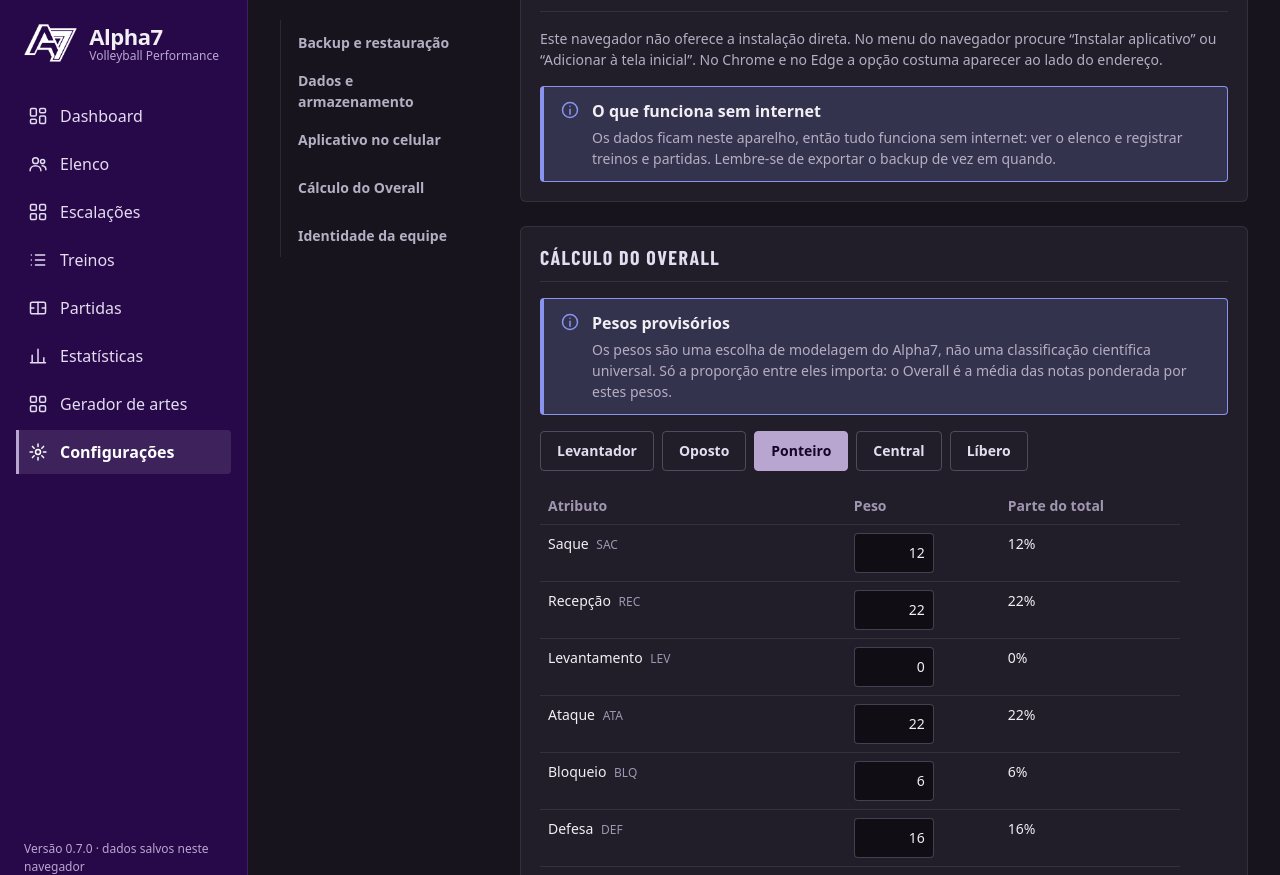
Scenario: Pesos do Overall › trocar de posição mostra os pesos daquela posição
The image size is (1280, 875).
(page scrolled)
Click the button "Central".
click(899, 451)  # box [856,431,942,471]
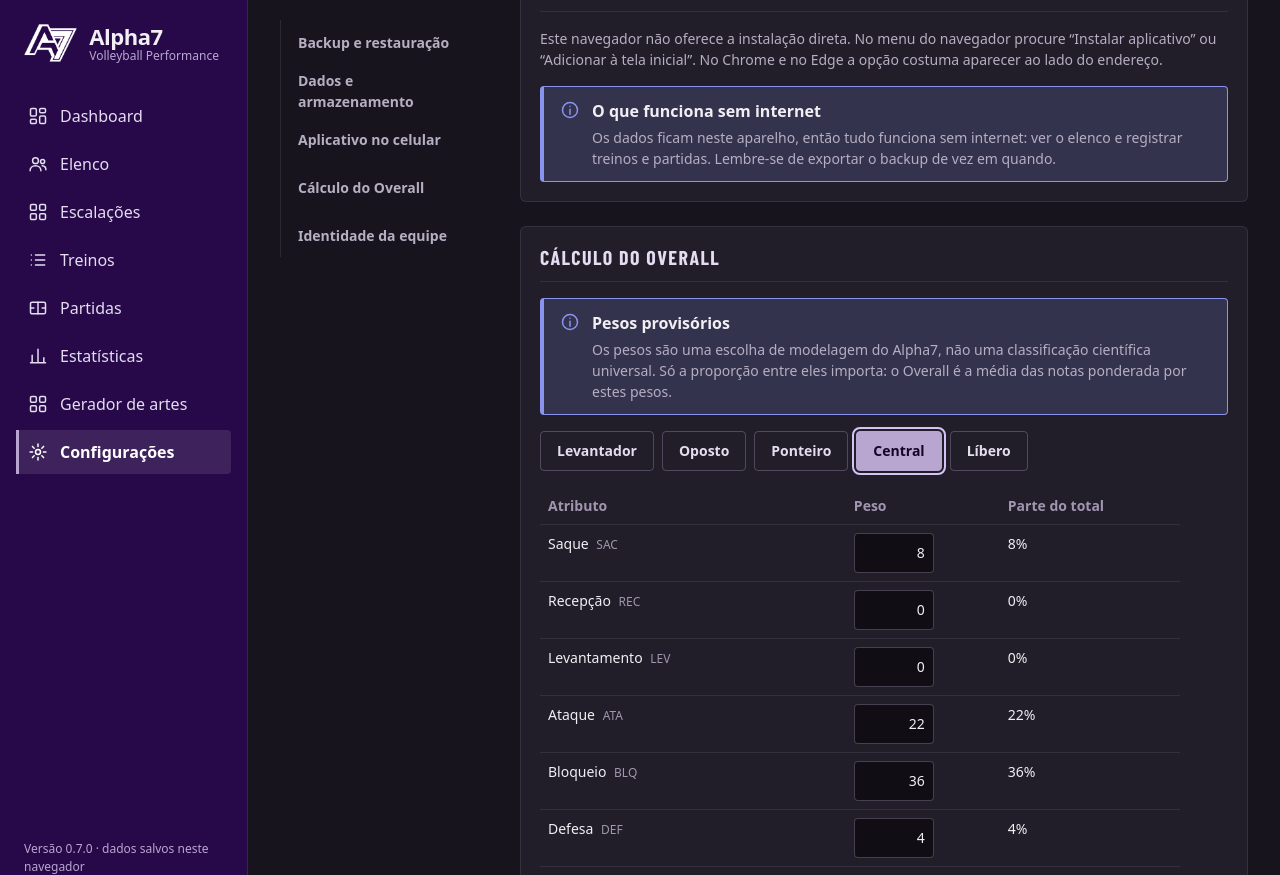
Expected: the field labelled "Bloqueio BLQ" holds "36", [854,761,934,801]
